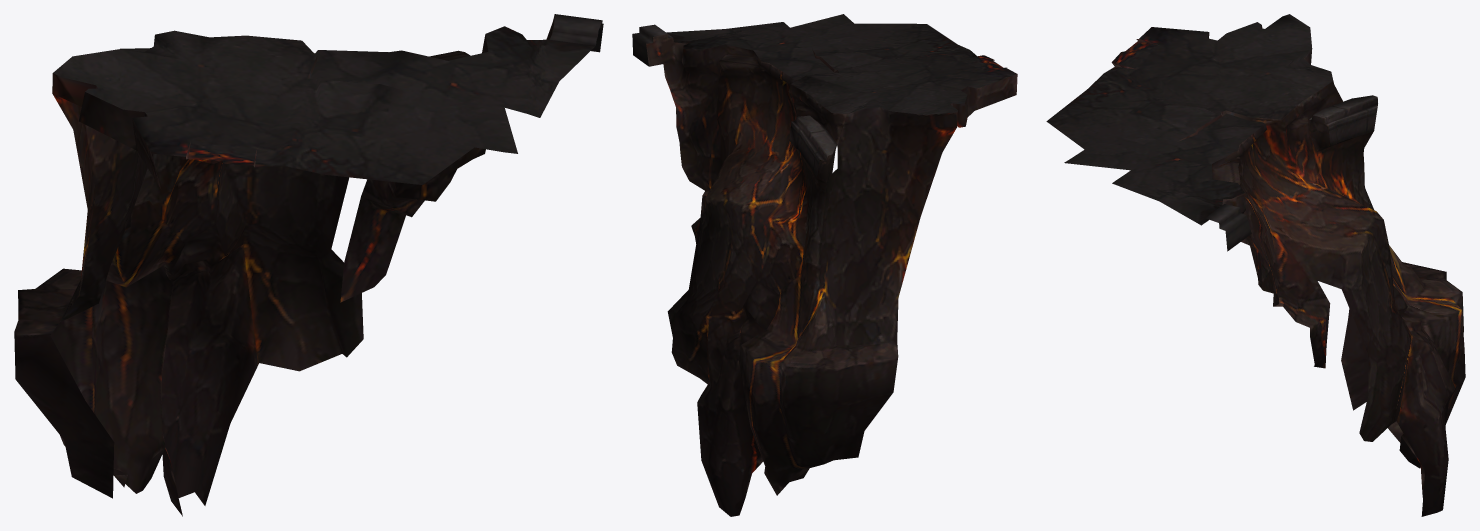
File: S2_Build_XSC106_L11.FBX
The picture shows the model from 3 angles, left to right: view 1: azimuth 30°, elevation 25°; view 2: azimuth 150°, elevation 25°; view 3: azimuth 270°, elevation 25°; orthographic projection. The views are drawn at different scales.
Parts seen in each view (by area): view 1: S2_Build_XSC106_L11; view 2: S2_Build_XSC106_L11; view 3: S2_Build_XSC106_L11.
Boxes of the visible parts, box(x1,y1,x2,y2) form: S2_Build_XSC106_L11: box(14, 14, 603, 516); S2_Build_XSC106_L11: box(632, 14, 1017, 516); S2_Build_XSC106_L11: box(1046, 14, 1465, 516).
Bounding box in the file's own units: 5825 × 6181 × 5583.
